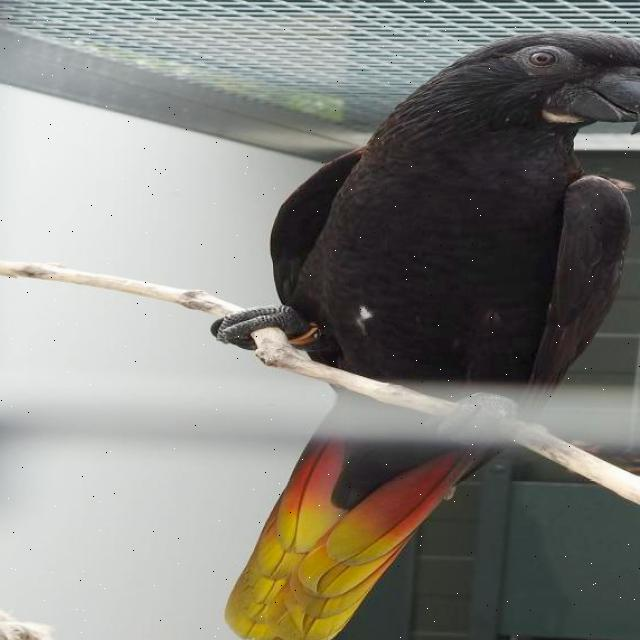Nuri Hitam: (179, 19, 640, 640)
